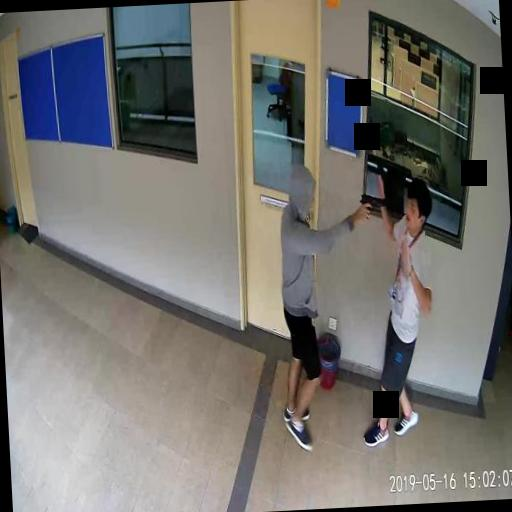Handgun: (359, 192, 385, 220)
